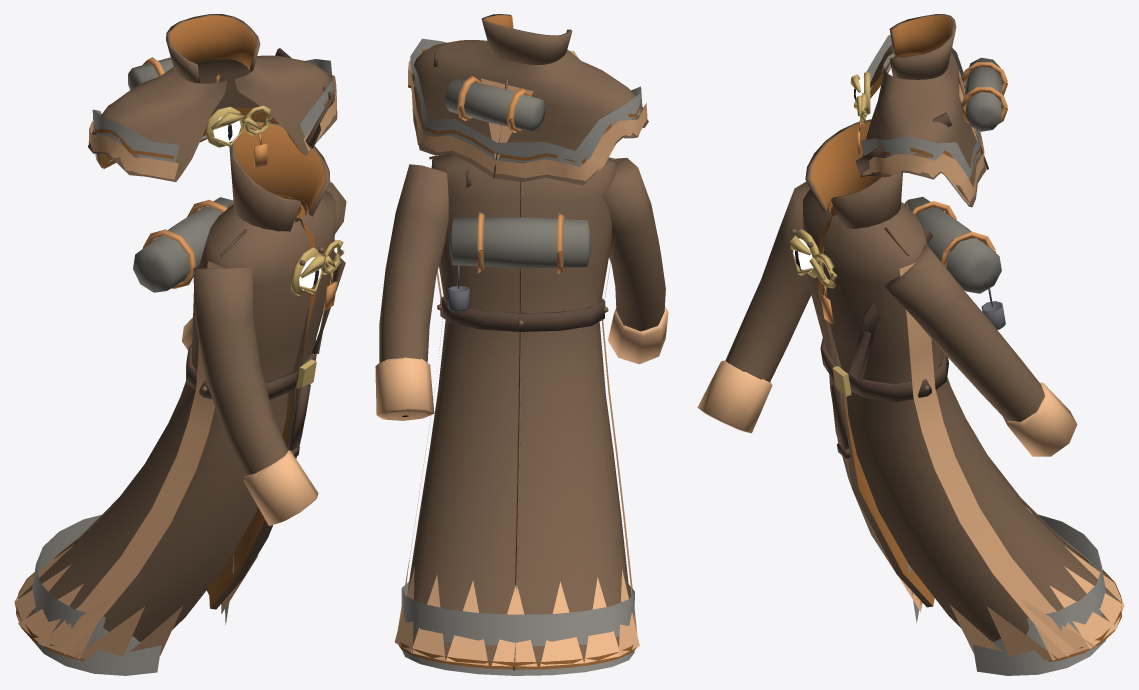
Rendered from coat-road-coat.glb.
3 renders of one model, left to right at view 1: azimuth 30°, elevation 25°; view 2: azimuth 150°, elevation 25°; view 3: azimuth 270°, elevation 25°, orthographic. The views are drawn at different scales.
Visible parts, largest first — view 1: coat-road-coat, coat-road-coat_worn, sway_belt; view 2: coat-road-coat, coat-road-coat_worn, sway_cup; view 3: coat-road-coat, coat-road-coat_worn, sway_belt.
Part boxes in pixels (x1,y1,x2,y2): coat-road-coat: (14,120,346,675); coat-road-coat_worn: (88,14,337,181); sway_belt: (287,384,310,457); coat-road-coat: (375,154,668,675); coat-road-coat_worn: (408,14,648,185); sway_cup: (447,265,469,311); coat-road-coat: (697,119,1124,675); coat-road-coat_worn: (850,14,1007,207); sway_belt: (831,384,850,458).
Size of the model in its own units: 0.9853 by 2.18 by 1.35.
